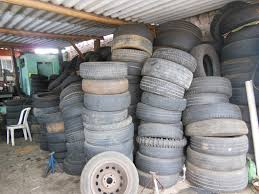tire: (81, 150, 139, 194), (185, 160, 250, 191), (188, 133, 254, 158), (185, 144, 248, 170), (190, 41, 223, 89), (134, 150, 187, 174), (81, 89, 130, 109), (79, 60, 127, 79), (80, 77, 130, 93), (33, 92, 64, 107)
